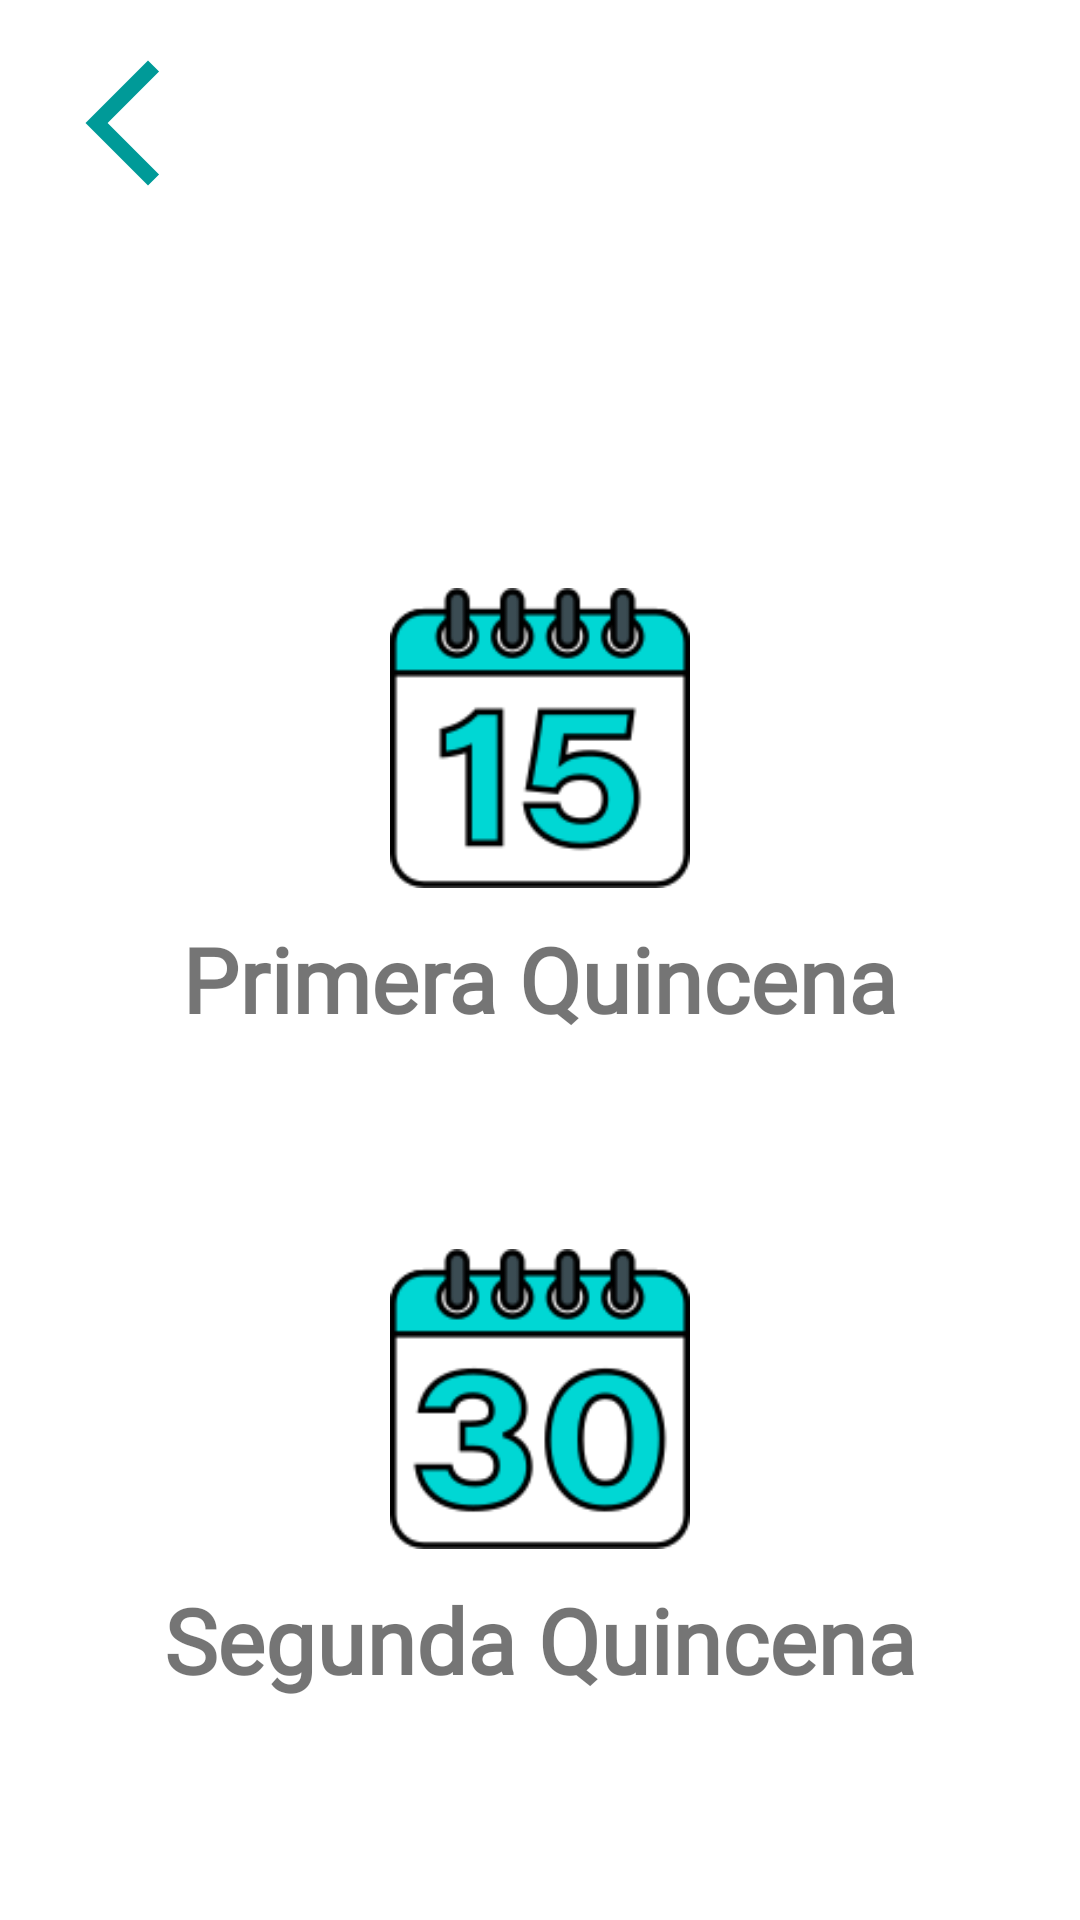

Icon click points for this 1080 × 1920 phone screenshot, format point (x, y):
arrow back: point (122, 123)
